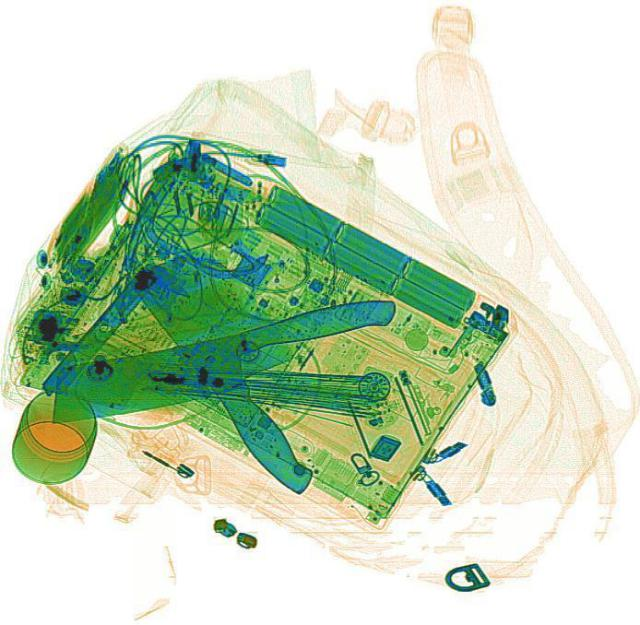Knife: (130, 236, 360, 501), (38, 296, 404, 421)
